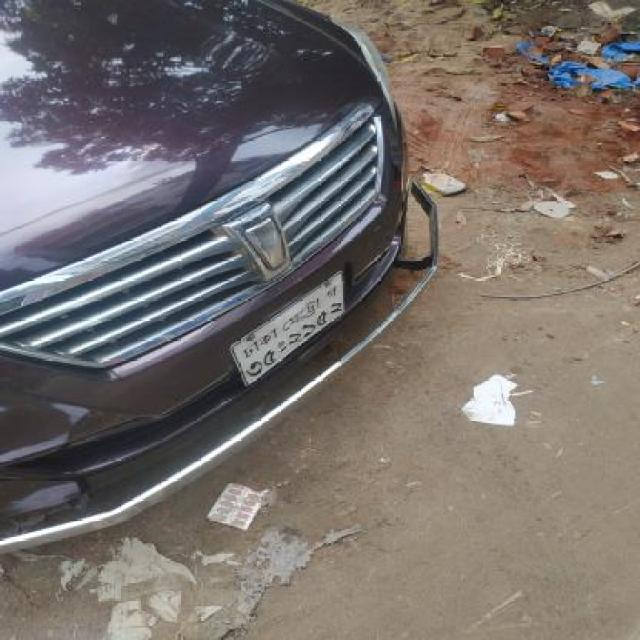numberplate: (228, 268, 346, 388)
